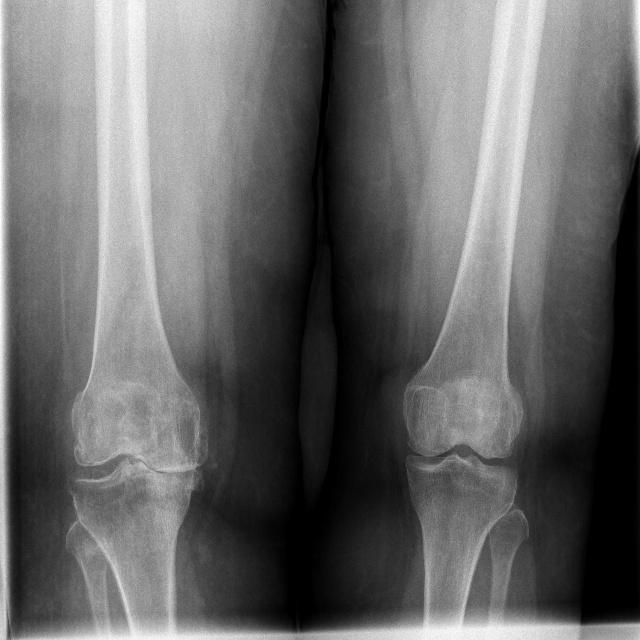Knee: (61, 389, 202, 524), (398, 390, 523, 515)
